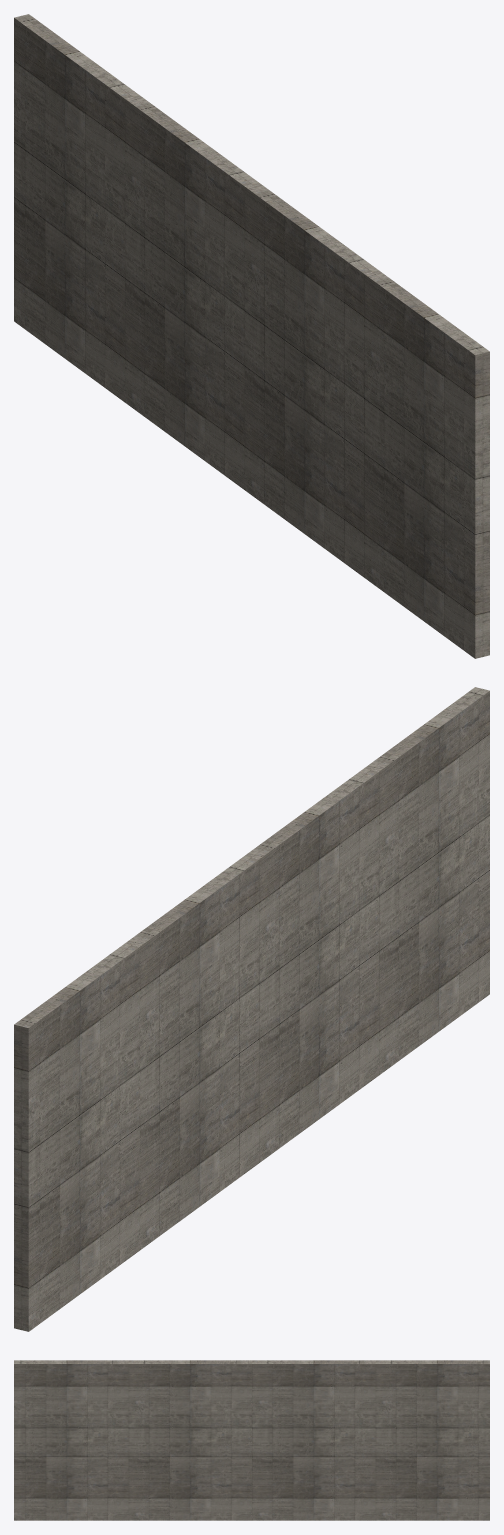
File: souplongwall040.glb
3 views of the same model, one above another, from view 1: azimuth 30°, elevation 25°; view 2: azimuth 150°, elevation 25°; view 3: azimuth 270°, elevation 25° (orthographic). The views are drawn at different scales.
Parts seen in each view (by area): view 1: souplongwall040_high_1; view 2: souplongwall040_high_1; view 3: souplongwall040_high_1.
Part boxes in pixels (x1,y1,x2,y2): souplongwall040_high_1: (14, 14, 489, 658); souplongwall040_high_1: (14, 687, 489, 1331); souplongwall040_high_1: (14, 1360, 489, 1520).
Bounding box in the file's own units: 0.1504 × 2.95 × 8.11.
Materials: 1 (1 with a texture image).
